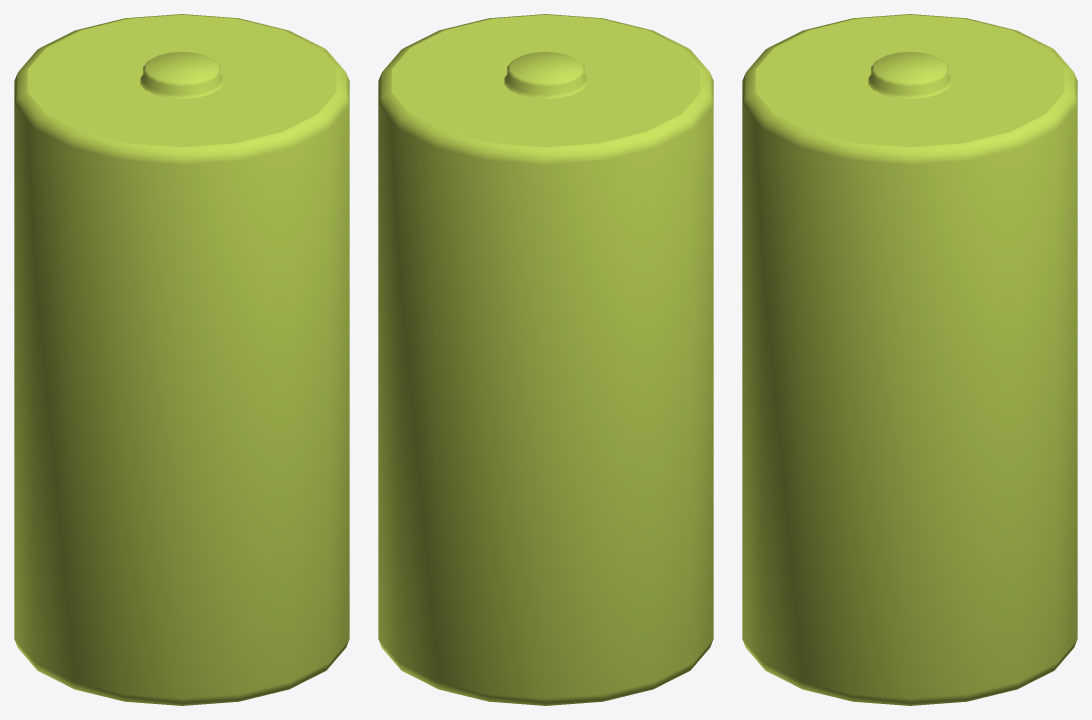
The model's file is Battery.fbx.
The picture shows the model from 3 angles, left to right: view 1: azimuth 30°, elevation 25°; view 2: azimuth 150°, elevation 25°; view 3: azimuth 270°, elevation 25°; orthographic projection.
Parts seen in each view (by area): view 1: Battery; view 2: Battery; view 3: Battery.
Part boxes in pixels (x1,y1,x2,y2): Battery: [14, 14, 349, 705]; Battery: [378, 14, 713, 705]; Battery: [742, 14, 1077, 705].
Bounding box in the file's own units: 3.32 × 6.15 × 3.27.
